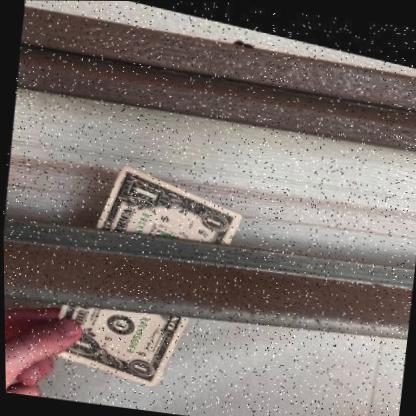one-front: (42, 161, 242, 385)
